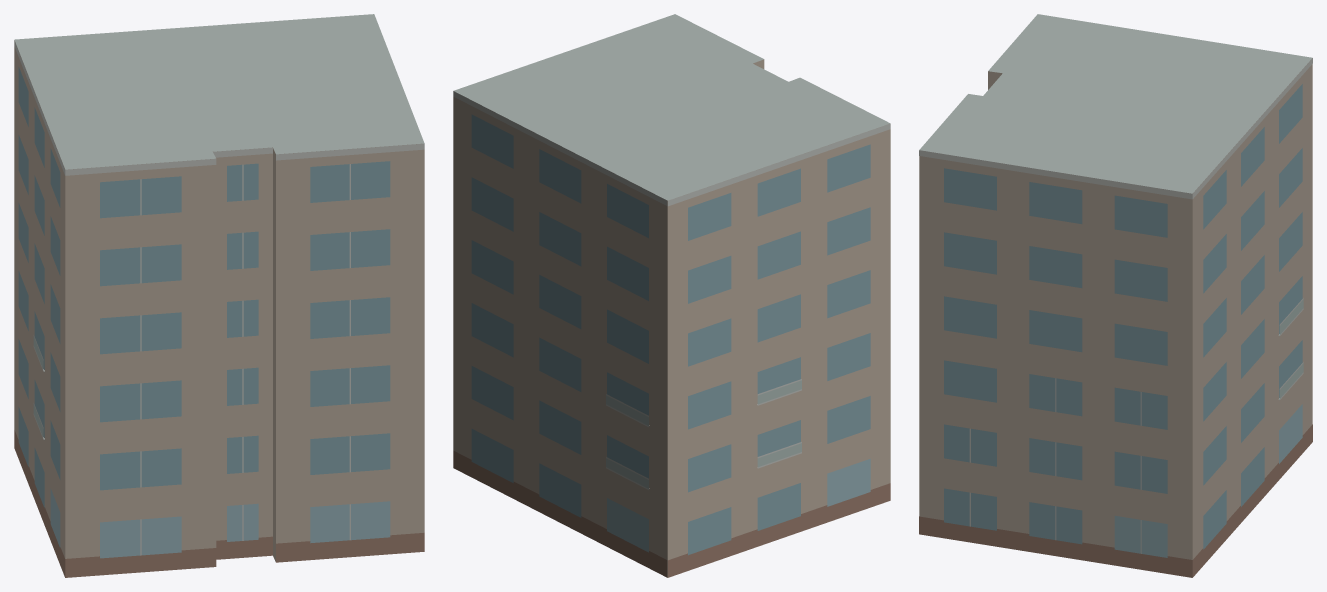
File: survey-upis-32868969.glb
3 views of the same model, side by side, from view 1: azimuth 30°, elevation 25°; view 2: azimuth 150°, elevation 25°; view 3: azimuth 270°, elevation 25° (orthographic). The views are drawn at different scales.
Parts seen in each view (by area): view 1: survey-upis-32868969.tmp; view 2: survey-upis-32868969.tmp; view 3: survey-upis-32868969.tmp.
Boxes of the visible parts, x1,y1,x2,y2 form: survey-upis-32868969.tmp: (14,14,424,577); survey-upis-32868969.tmp: (453,14,890,577); survey-upis-32868969.tmp: (919,14,1312,577).
Bounding box in the file's own units: 16.26 × 16.2 × 15.05.
